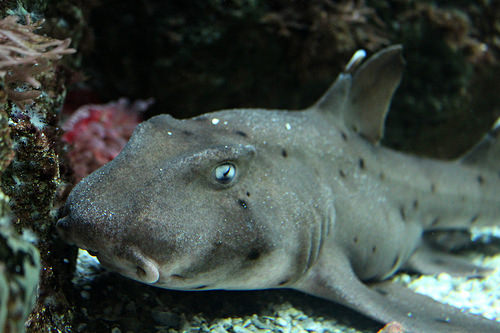shark: (40, 23, 496, 329)
